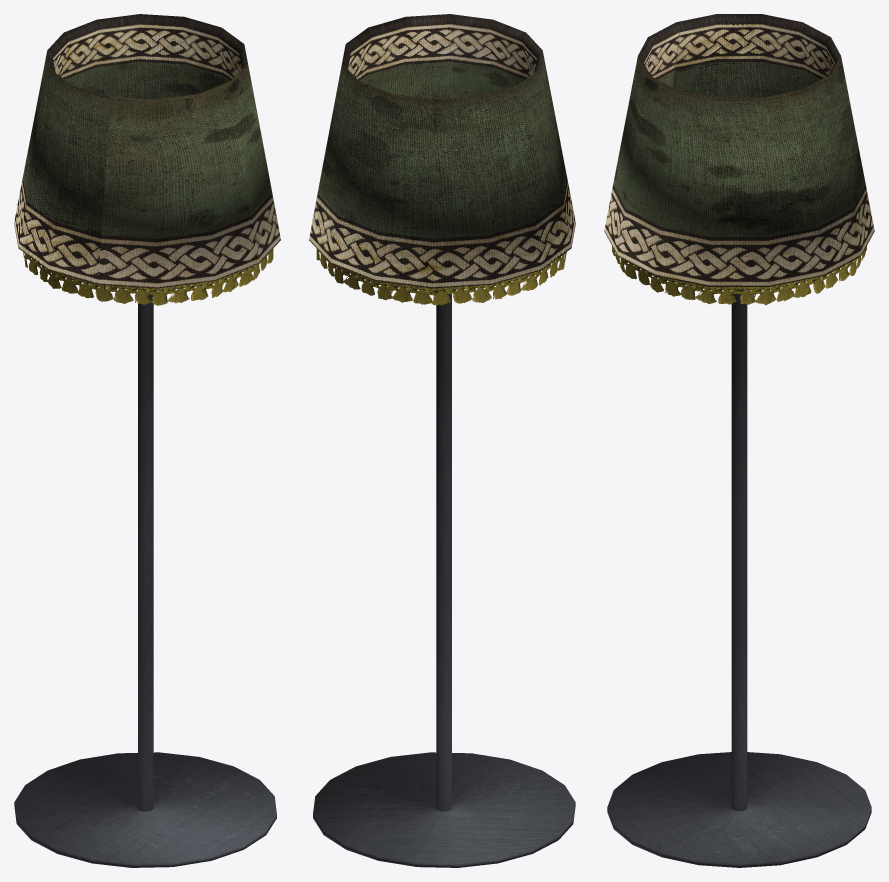
The model's file is FPH_Lamp.fbx.
3 renders of one model, left to right at view 1: azimuth 30°, elevation 25°; view 2: azimuth 150°, elevation 25°; view 3: azimuth 270°, elevation 25°, orthographic.
Parts seen in each view (by area): view 1: FPH_Lamp; view 2: FPH_Lamp; view 3: FPH_Lamp.
Part boxes in pixels (x1,y1,x2,y2): FPH_Lamp: (14, 14, 280, 867); FPH_Lamp: (309, 14, 575, 867); FPH_Lamp: (604, 14, 874, 867).
Size of the model in its own units: 2.95 by 9.25 by 3.
Materials: 1 (1 with a texture image).
